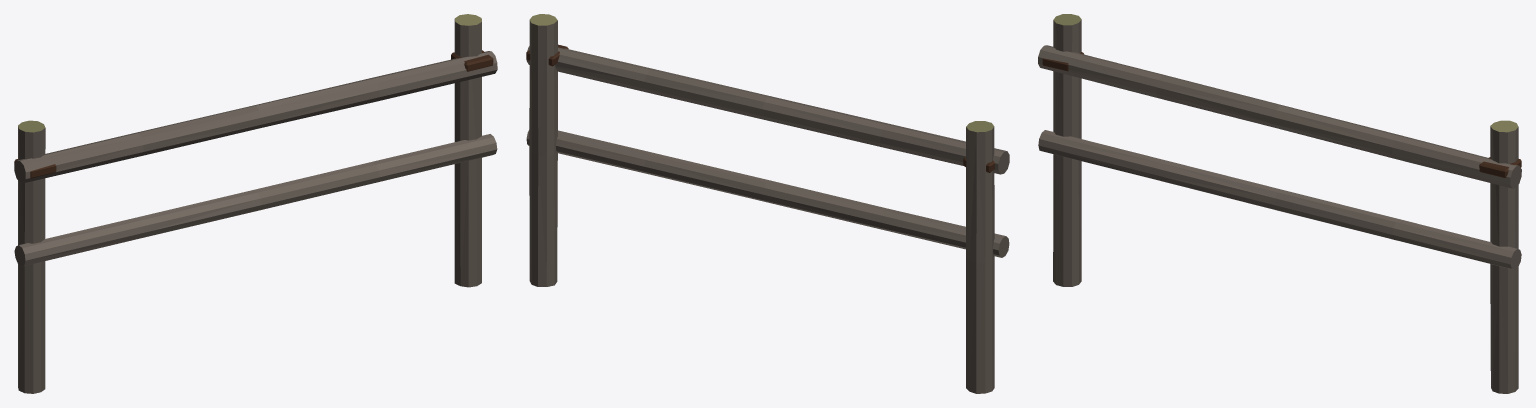
File: fence.glb
3 renders of one model, left to right at view 1: azimuth 30°, elevation 25°; view 2: azimuth 150°, elevation 25°; view 3: azimuth 330°, elevation 25°, orthographic.
Parts seen in each view (by area): view 1: fence; view 2: fence; view 3: fence.
Part boxes in pixels (bbox=[...]): fence: bbox=[14, 14, 497, 393]; fence: bbox=[526, 14, 1009, 393]; fence: bbox=[1038, 14, 1521, 393].
Size of the model in its own units: 2.7 by 1.43 by 0.1906.
